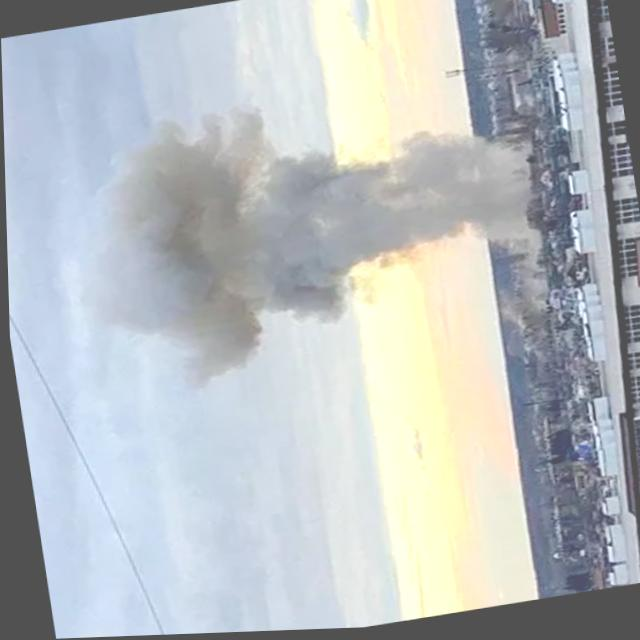no_helmet: (65, 60, 553, 403)
